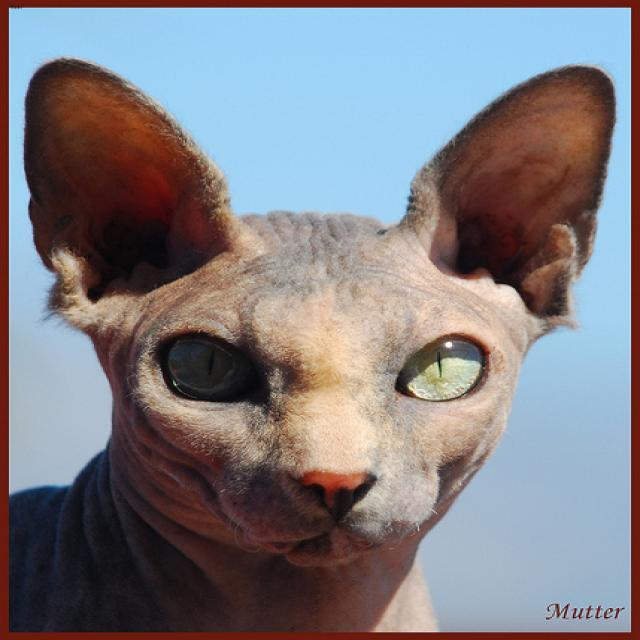Sphynx: (14, 46, 620, 578)
